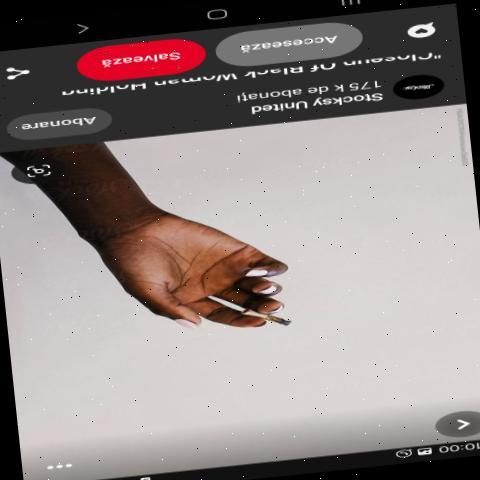Hands: (84, 162, 318, 387)
